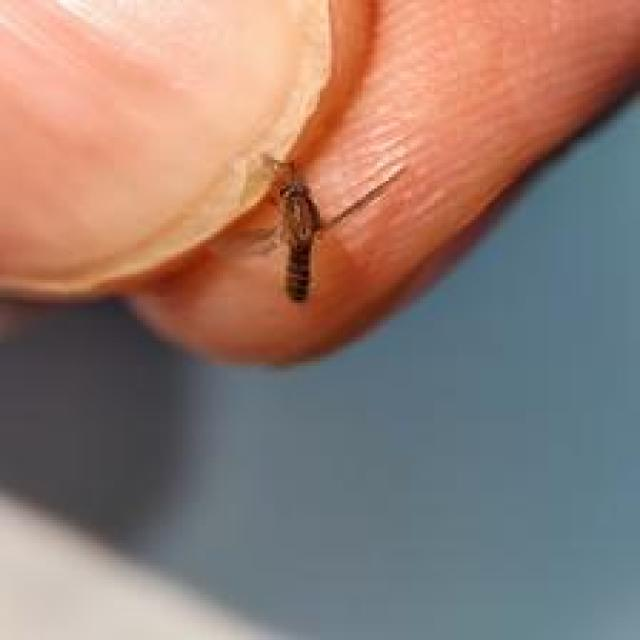Culex: (260, 157, 326, 303)
